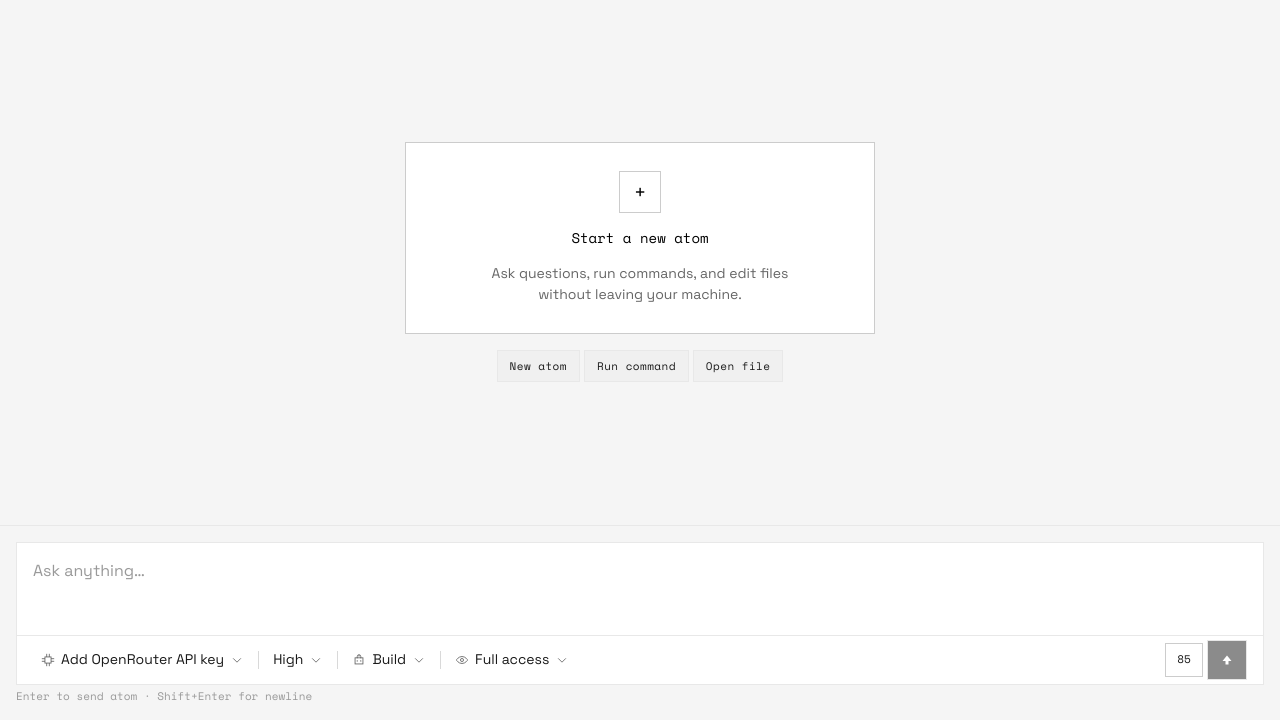
Test: MainWorkspacePanel › shows a coming soon snackbar for Run command
Click the button "Run command" at (636, 366), box [584,350,689,382]
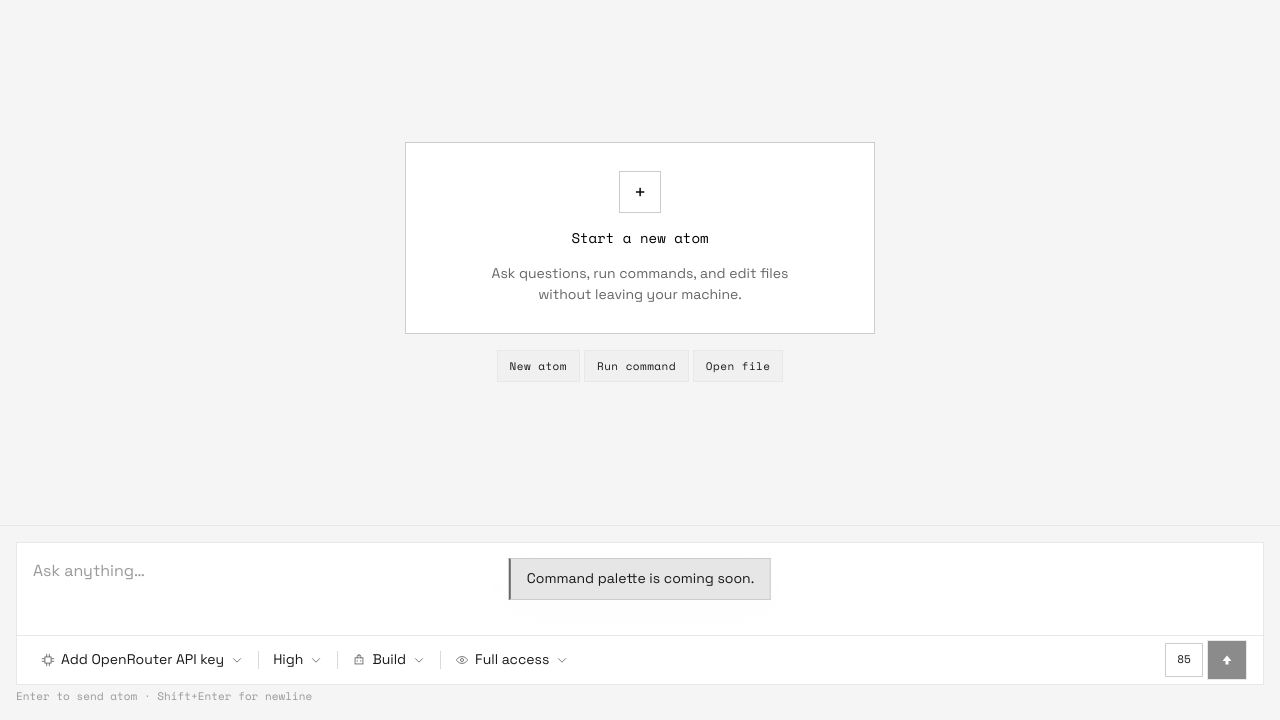
Expected: the text "Command palette is coming soon." is shown, [509,558,771,600]
